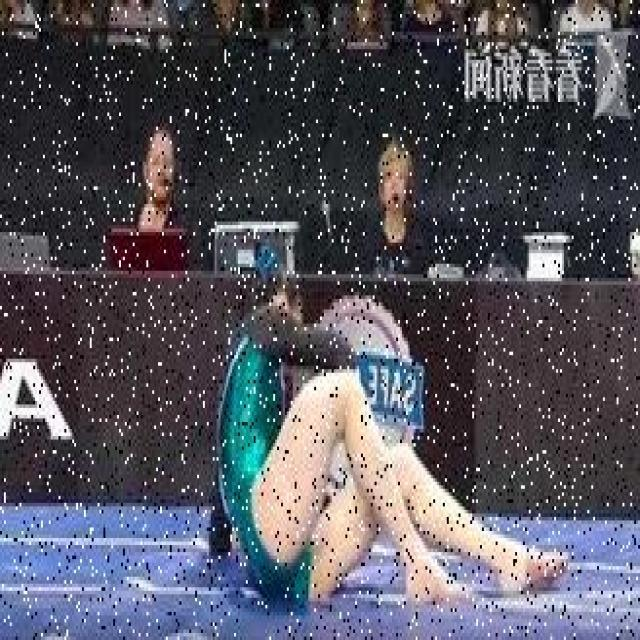fall: (197, 274, 568, 602)
